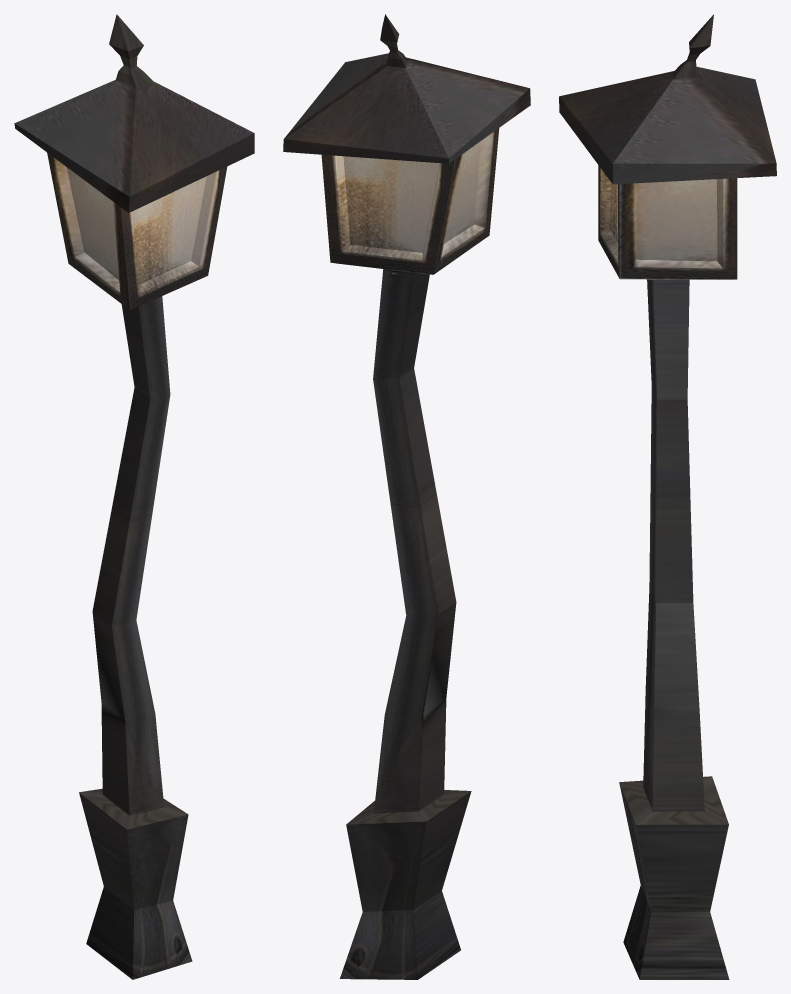
The model's file is Lamp.fbx.
The picture shows the model from 3 angles, left to right: view 1: azimuth 30°, elevation 25°; view 2: azimuth 150°, elevation 25°; view 3: azimuth 270°, elevation 25°; orthographic projection. The views are drawn at different scales.
Visible parts, largest first — view 1: Lamp; view 2: Lamp; view 3: Lamp.
Boxes of the visible parts, x1,y1,x2,y2 form: Lamp: (14,14,254,979); Lamp: (283,14,530,979); Lamp: (559,14,776,979).
Bounding box in the file's own units: 18.62 × 97.49 × 20.31.
